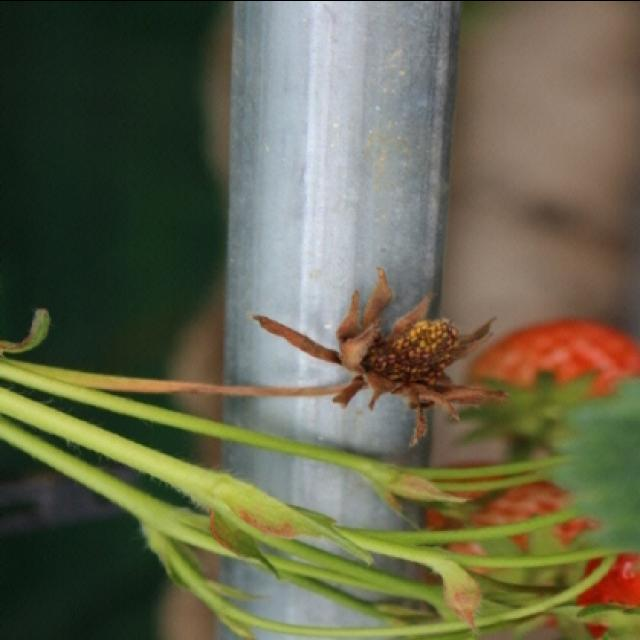Gray Mold: (252, 265, 506, 450)
